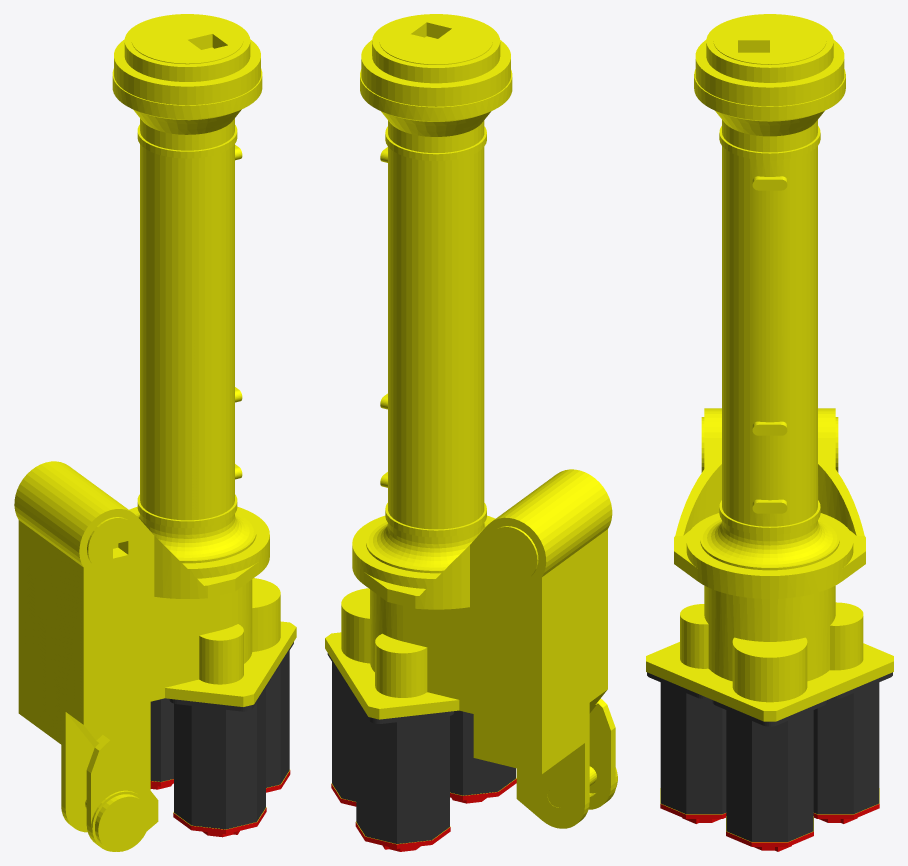
The picture shows the model from 3 angles, left to right: view 1: azimuth 30°, elevation 25°; view 2: azimuth 150°, elevation 25°; view 3: azimuth 270°, elevation 25°; orthographic projection.
Visible parts, largest first — view 1: node; view 2: node; view 3: node.
Boxes of the visible parts, <box> form: node: <box>14,14,296,851</box>; node: <box>325,14,617,851</box>; node: <box>646,14,893,851</box>.
Bounding box in the file's own units: 570 × 1690 × 490.
